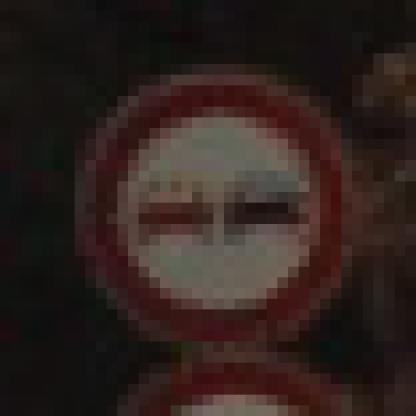No Overtaking: (54, 54, 364, 364)
